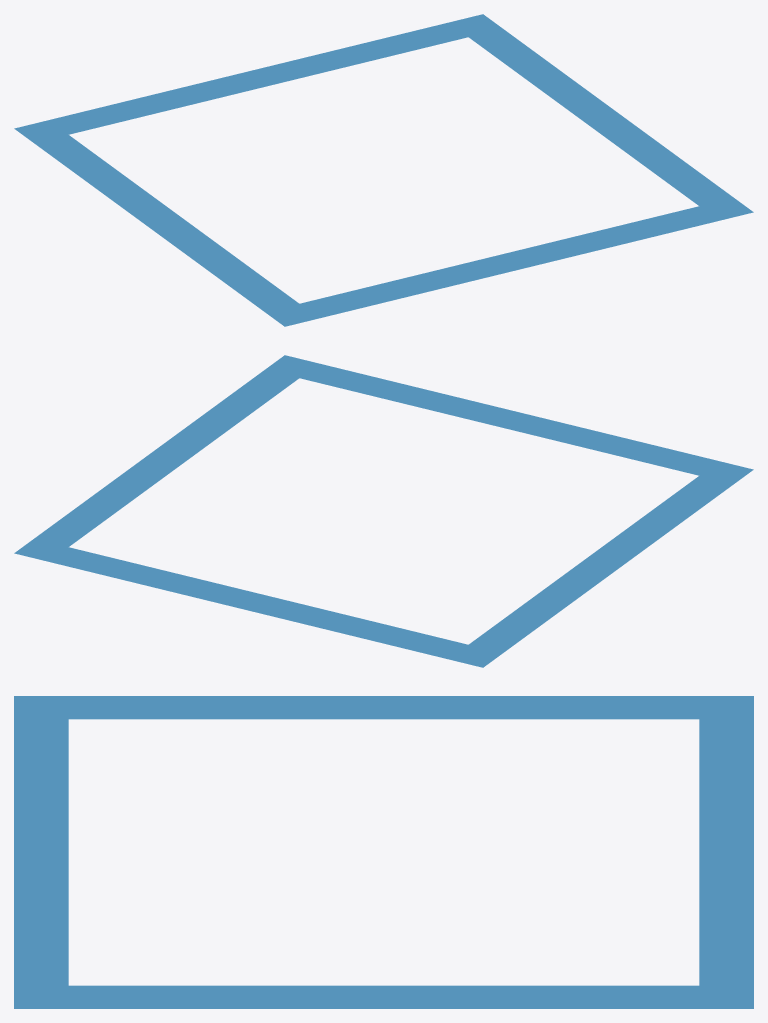
The model's file is water-flat.glb.
The picture shows the model from 3 angles, top to bottom: view 1: azimuth 30°, elevation 25°; view 2: azimuth 150°, elevation 25°; view 3: azimuth 270°, elevation 25°; orthographic projection. The views are drawn at different scales.
Visible parts, largest first — view 1: FlatSea; view 2: FlatSea; view 3: FlatSea.
Part boxes in pixels (left/top/right/bottom): FlatSea: left=14, top=14, right=753, bottom=326; FlatSea: left=14, top=355, right=753, bottom=667; FlatSea: left=14, top=696, right=753, bottom=1008.
Size of the model in its own units: 4788 by 0 by 4788.
